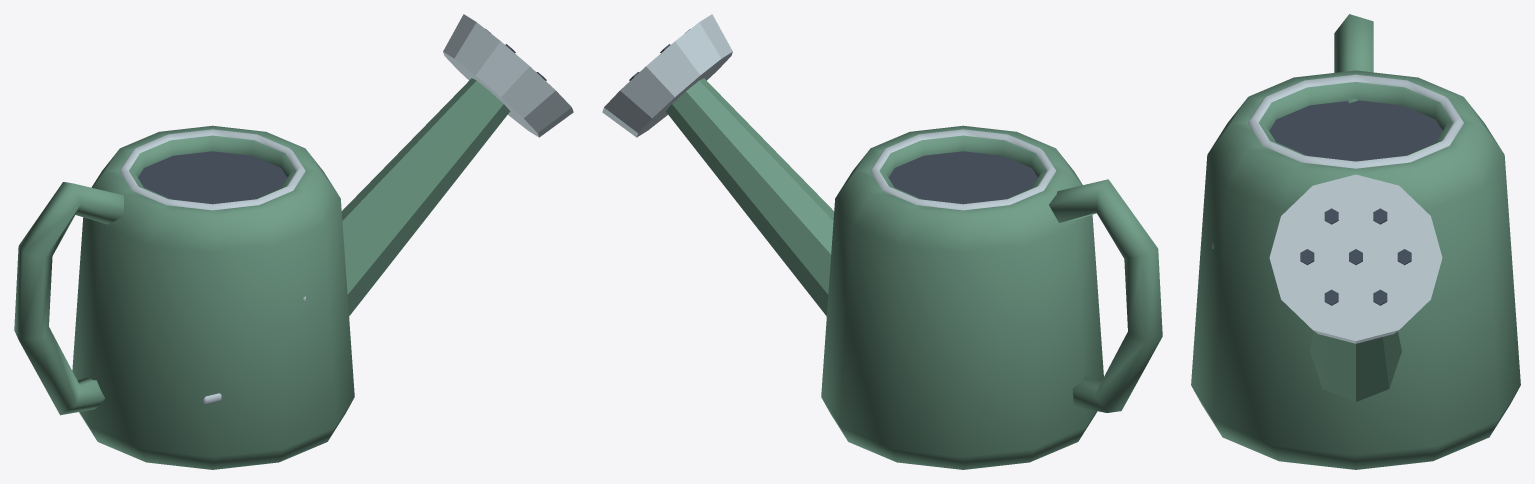
File: watering_can.glb
The picture shows the model from 3 angles, left to right: view 1: azimuth 30°, elevation 25°; view 2: azimuth 150°, elevation 25°; view 3: azimuth 270°, elevation 25°; orthographic projection. The views are drawn at different scales.
Parts seen in each view (by area): view 1: Green tin reservoir, Long tapered spout, Rounded carrying handle, Watering rose, Dark fill opening, Rolled rim; view 2: Green tin reservoir, Long tapered spout, Rounded carrying handle, Watering rose, Dark fill opening, Rolled rim; view 3: Green tin reservoir, Watering rose, Dark fill opening, Long tapered spout, Rolled rim, Rounded carrying handle.
Part boxes in pixels (x1,y1,x2,y2): Green tin reservoir: [72, 125, 354, 469]; Long tapered spout: [341, 78, 510, 316]; Rounded carrying handle: [14, 182, 124, 415]; Watering rose: [443, 14, 573, 137]; Dark fill opening: [138, 151, 287, 204]; Rolled rim: [119, 129, 305, 210]; Green tin reservoir: [821, 125, 1103, 469]; Long tapered spout: [665, 78, 834, 316]; Rounded carrying handle: [1049, 179, 1162, 412]; Watering rose: [602, 14, 732, 137]; Dark fill opening: [888, 151, 1037, 204]; Rolled rim: [870, 129, 1056, 210]; Green tin reservoir: [1191, 70, 1520, 469]; Watering rose: [1269, 174, 1442, 343]; Dark fill opening: [1269, 100, 1442, 161]; Long tapered spout: [1310, 331, 1401, 401]; Rolled rim: [1248, 74, 1463, 168]; Rounded carrying handle: [1334, 14, 1373, 103].
Size of the model in its own units: 0.25 by 0.1436 by 0.113.
